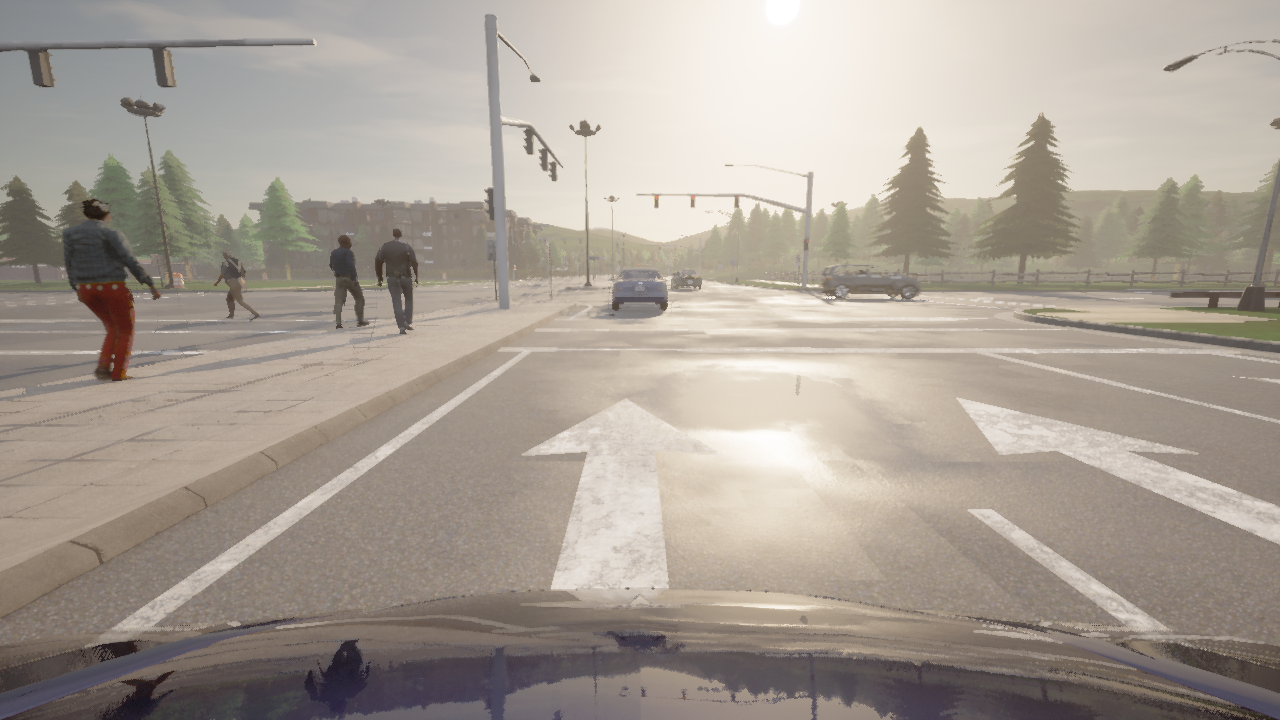cyclist: (0, 588, 1279, 719), (816, 263, 922, 299), (613, 267, 666, 308), (672, 268, 702, 289)
pedestrian: (62, 197, 160, 381), (376, 227, 419, 333), (213, 247, 261, 320), (331, 235, 368, 328)
